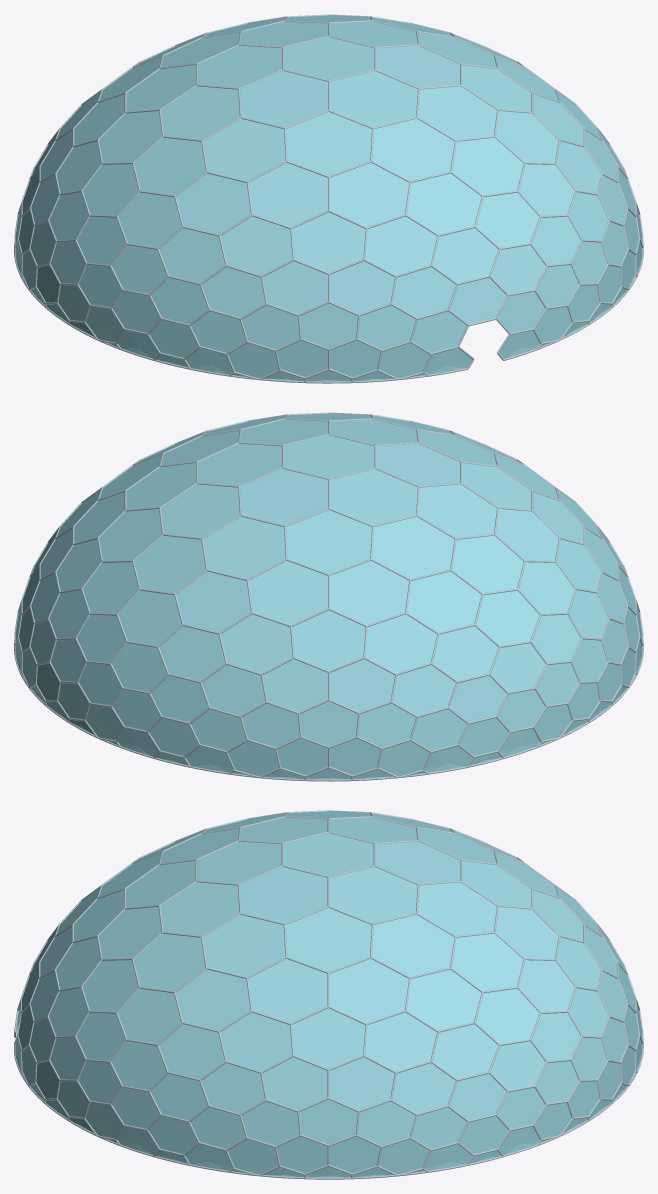
File: cupula-hexagonal.glb
3 renders of one model, top to bottom at view 1: azimuth 30°, elevation 25°; view 2: azimuth 150°, elevation 25°; view 3: azimuth 270°, elevation 25°, orthographic.
Visible parts, largest first — view 1: Cristal, Estructura; view 2: Cristal, Estructura; view 3: Cristal, Estructura.
Boxes of the visible parts, x1,y1,x2,y2 form: Cristal: (15, 15, 642, 381); Estructura: (14, 14, 643, 383); Cristal: (15, 413, 642, 779); Estructura: (14, 412, 643, 781); Cristal: (15, 811, 642, 1177); Estructura: (14, 810, 643, 1179).
Size of the model in its own units: 40.13 by 13.53 by 40.09.
